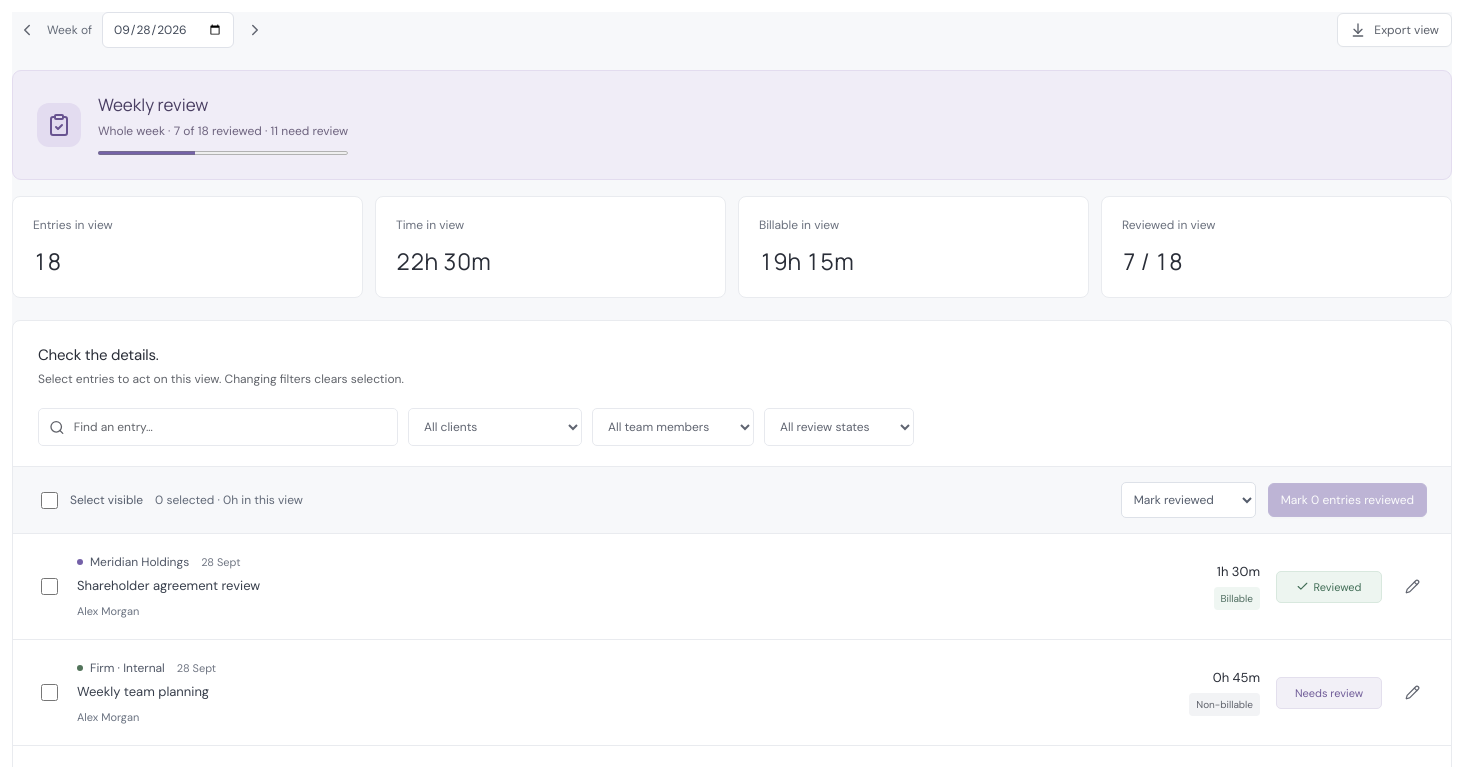
weekly review view and action scope › clears selection when Review status changes
This screenshot has width=1464, height=767.
Click the checkbox named "Select visible entries".
click(50, 500)  # box [41,492,58,508]
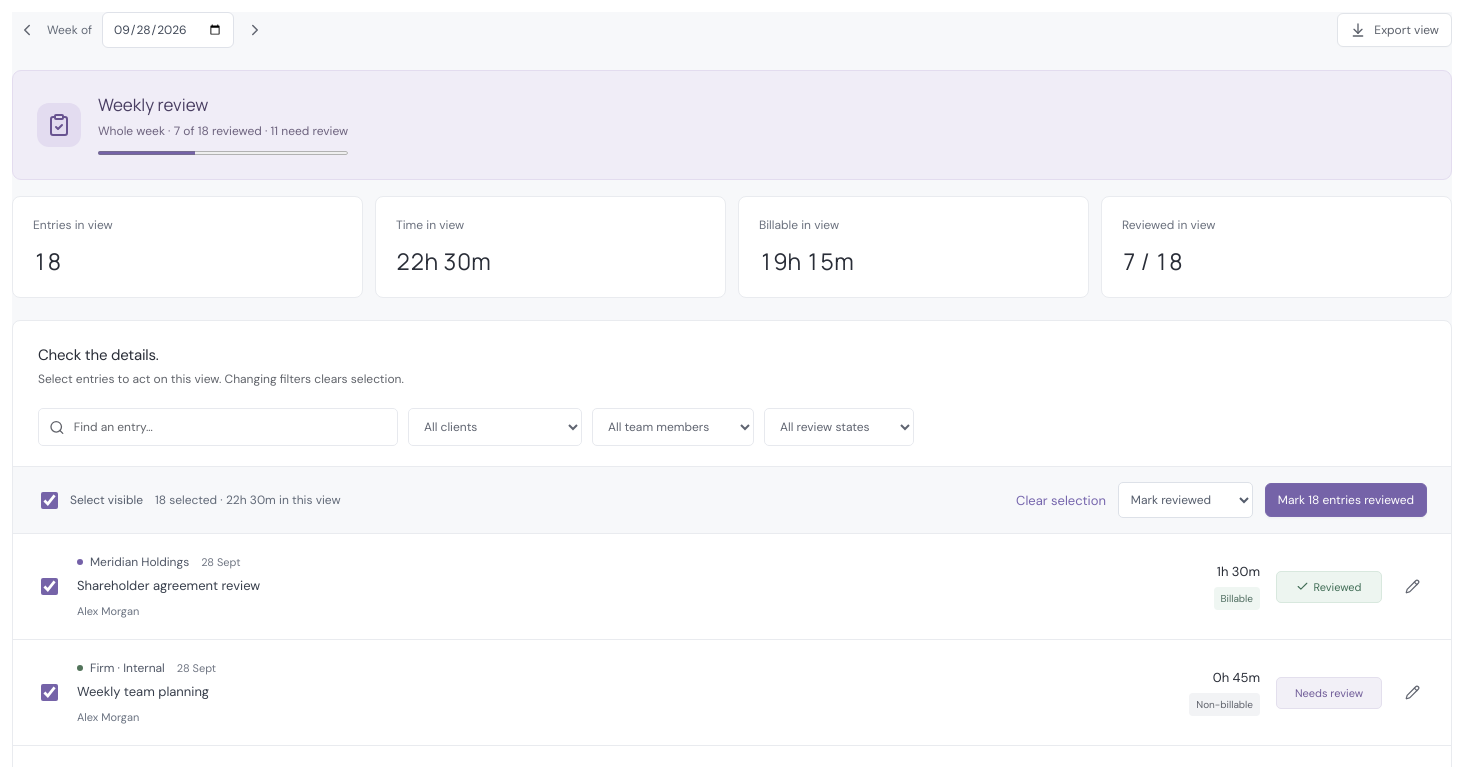
Select "Needs review" in the dropdown named "Review status" at (839, 427), box [764,408,914,446]
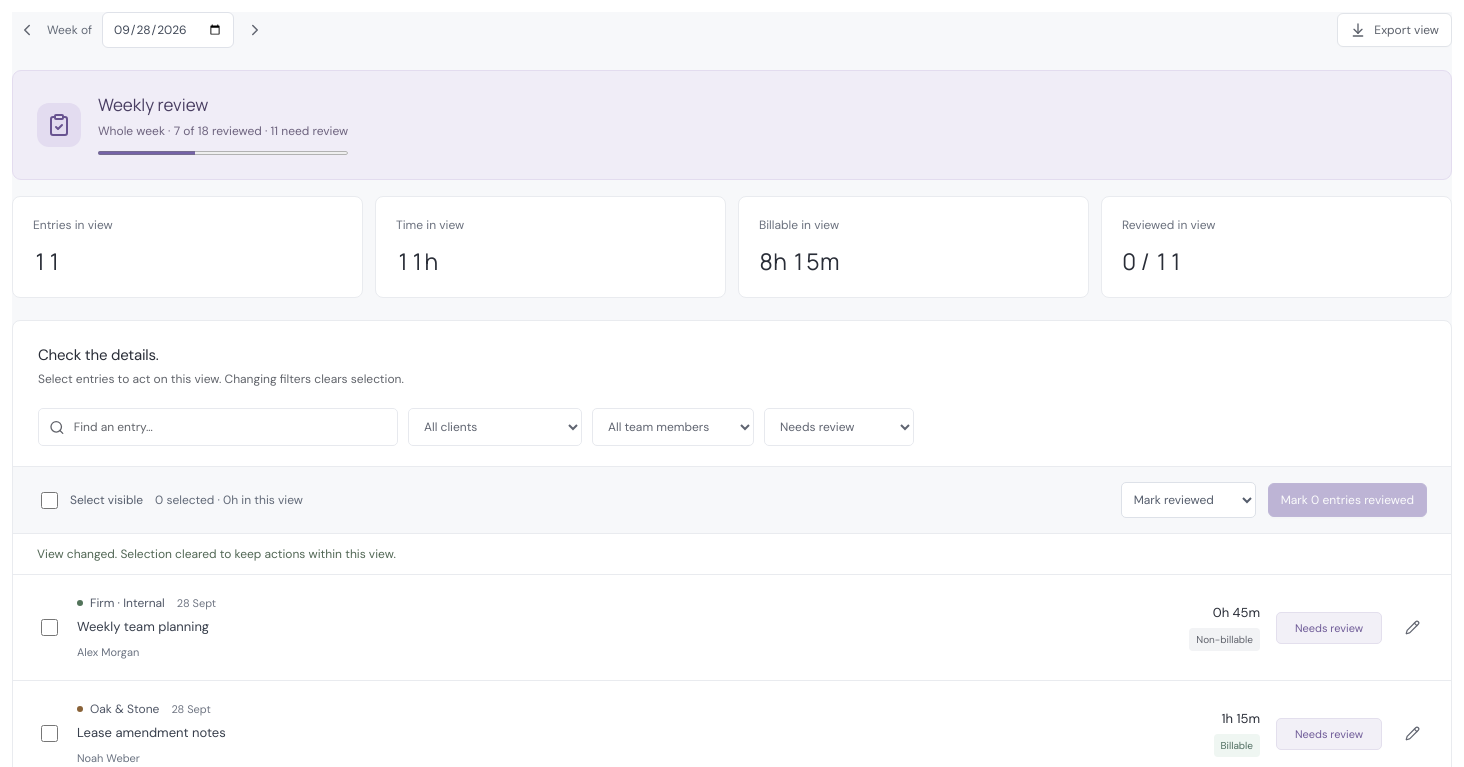
Expected: the button "Mark 0 entries reviewed" is disabled, [1268,483,1427,517]
Expected: the text "View changed. Selection cleared" is shown, [37,546,396,562]
